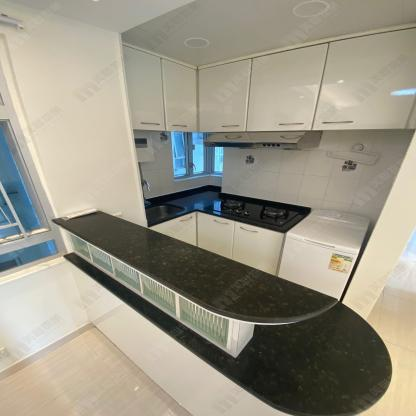Cupboard: (127, 26, 416, 131), (151, 210, 287, 276)
Exhaust Hood: (203, 131, 322, 149)
Sink: (144, 204, 179, 221)
Stove: (190, 192, 307, 227)
